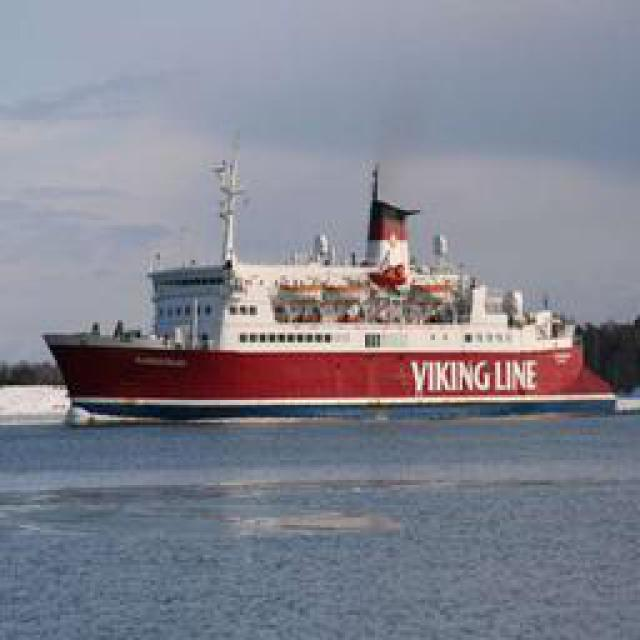Ship: (43, 135, 608, 410)
